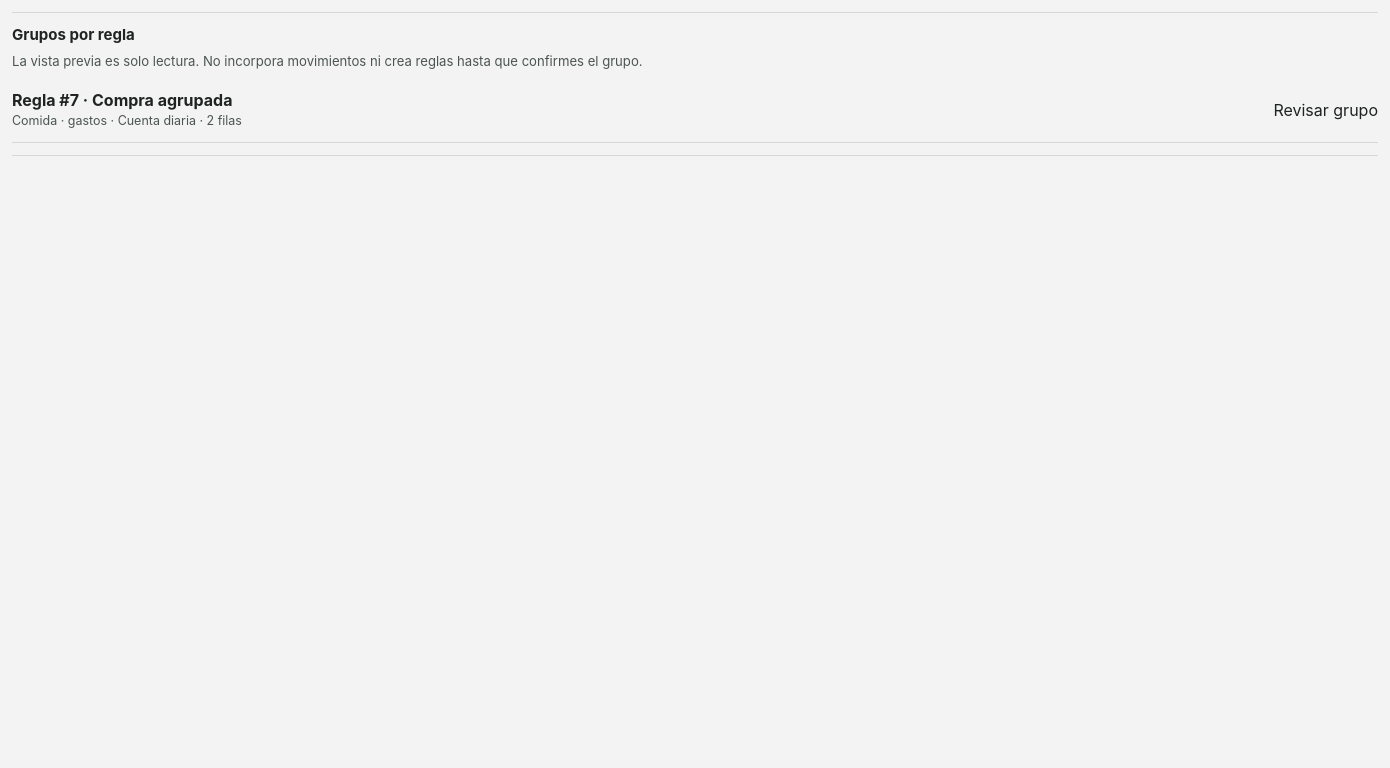
Test: ReviewRuleGroups › ignores a concurrent apply and allows retry after the in-flight result fails
Later steps or results of the test are not shown.
Click the button named "Revisar grupo" at (41, 100), box [12,78,1378,142]
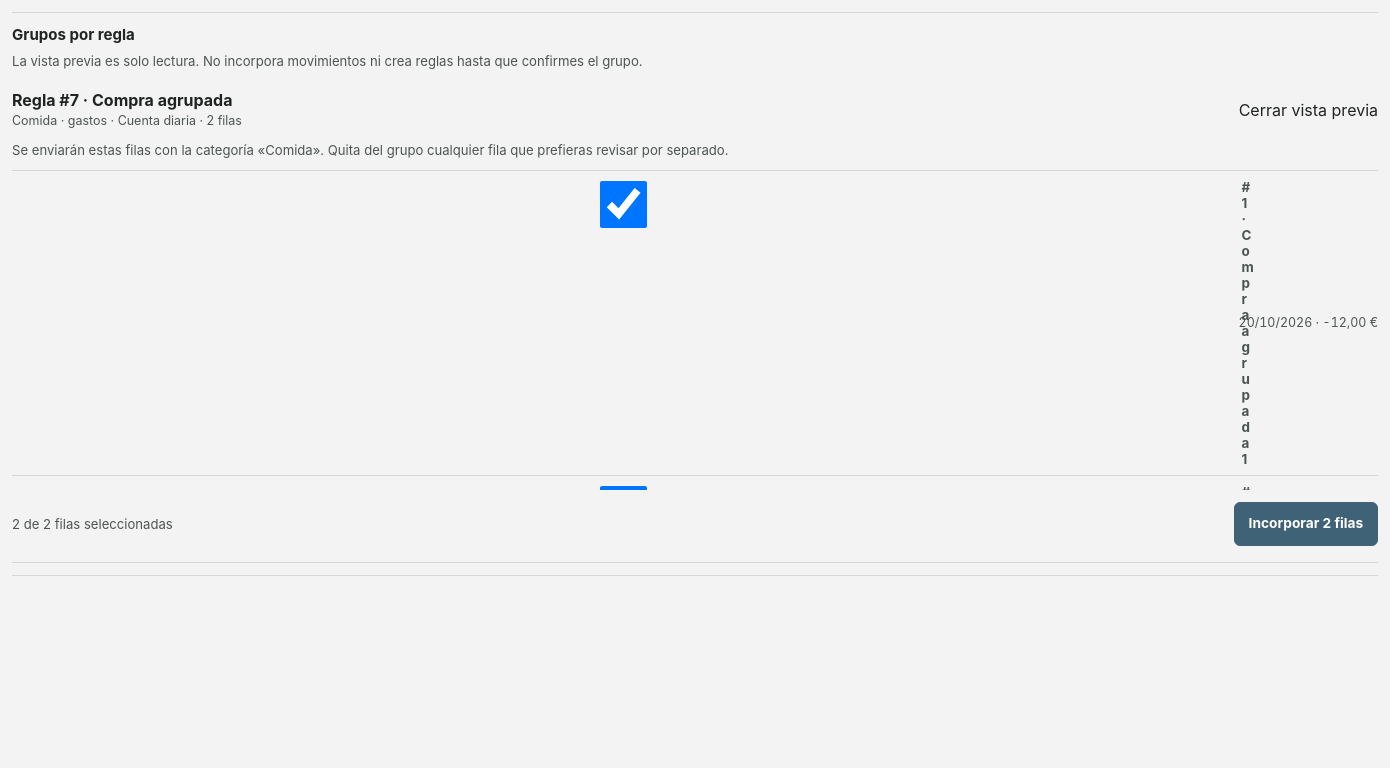
Click the button "Incorporar 2 filas" at (1306, 524), box [1234,502,1378,546]
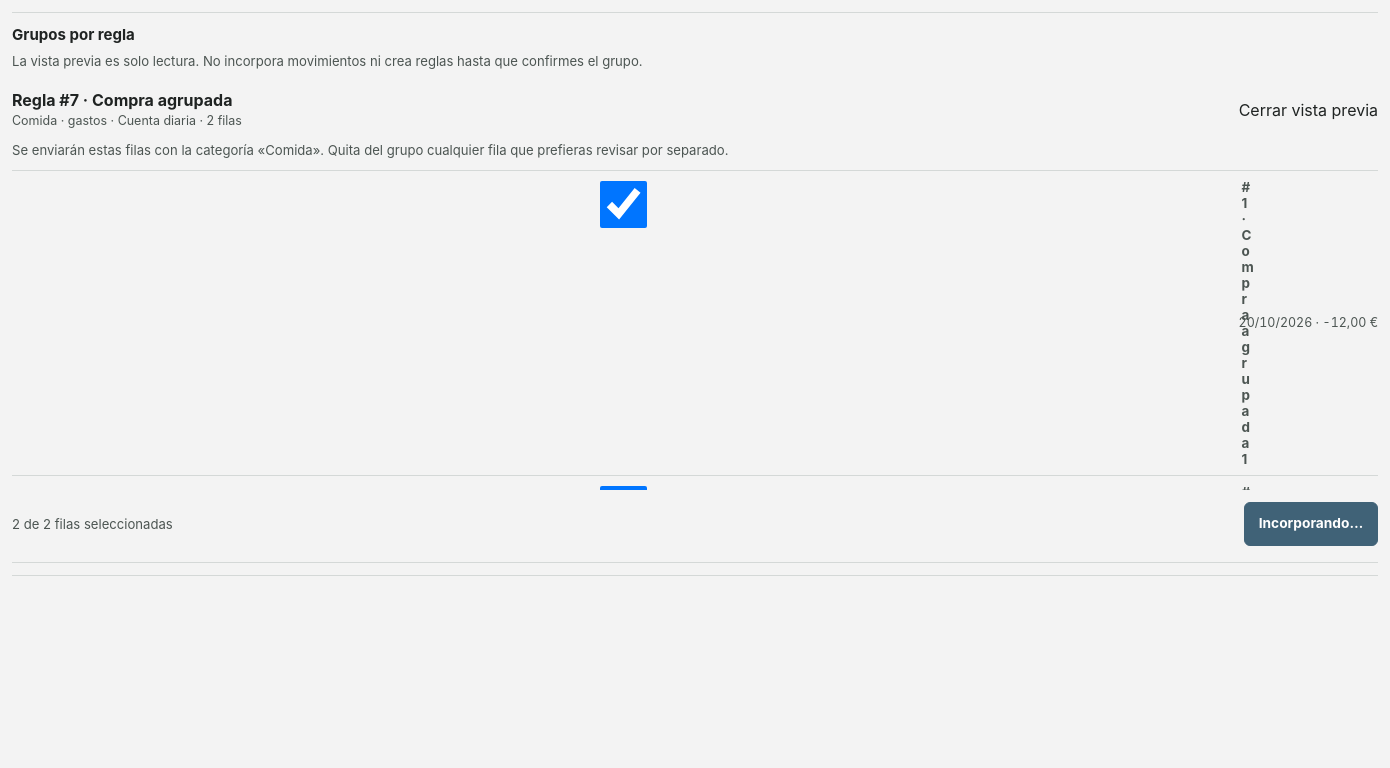
Now the button named "Incorporar 2 filas" has attribute aria-busy="true"
Click the button named "Incorporar 2 filas" at (1311, 524), box [1244,502,1378,546]
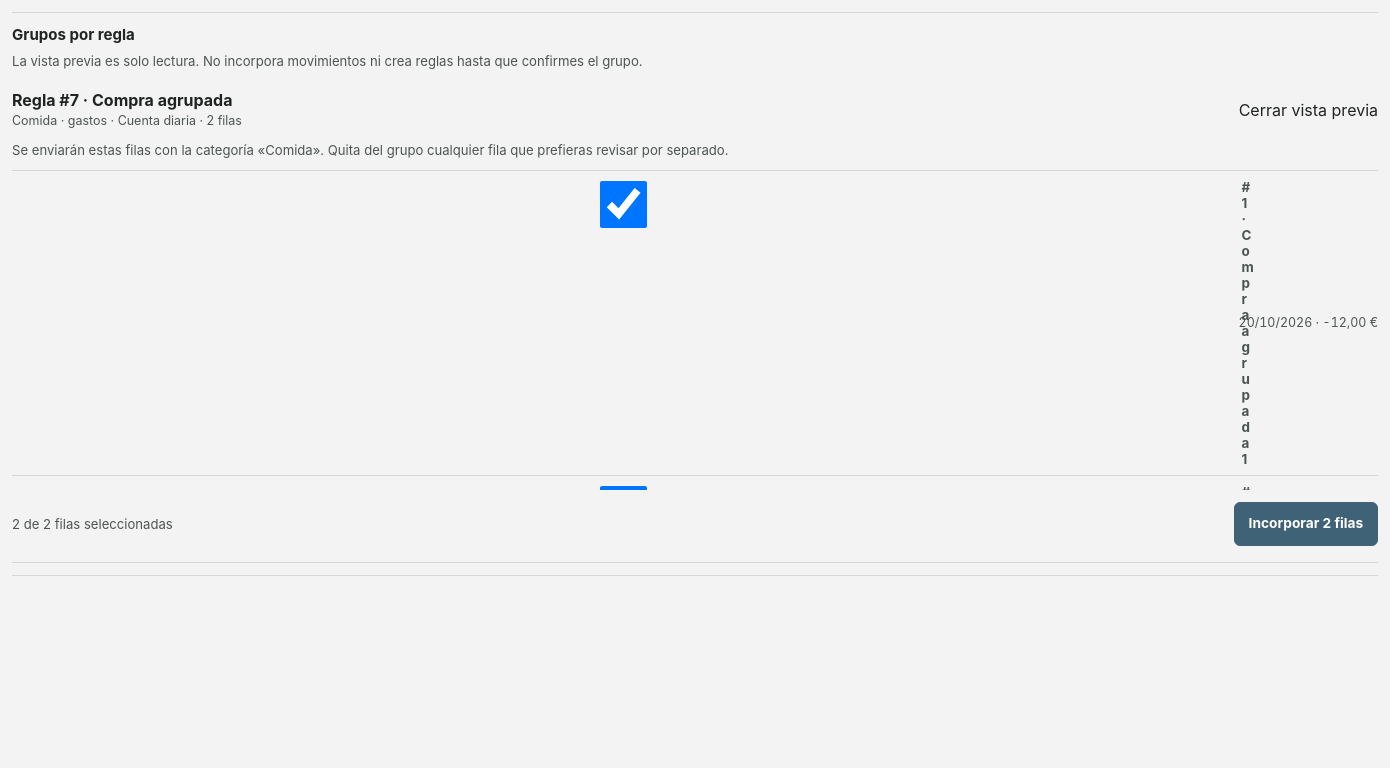
Now the button "Incorporar 2 filas" does not have attribute aria-busy, box [1234,502,1378,546]
